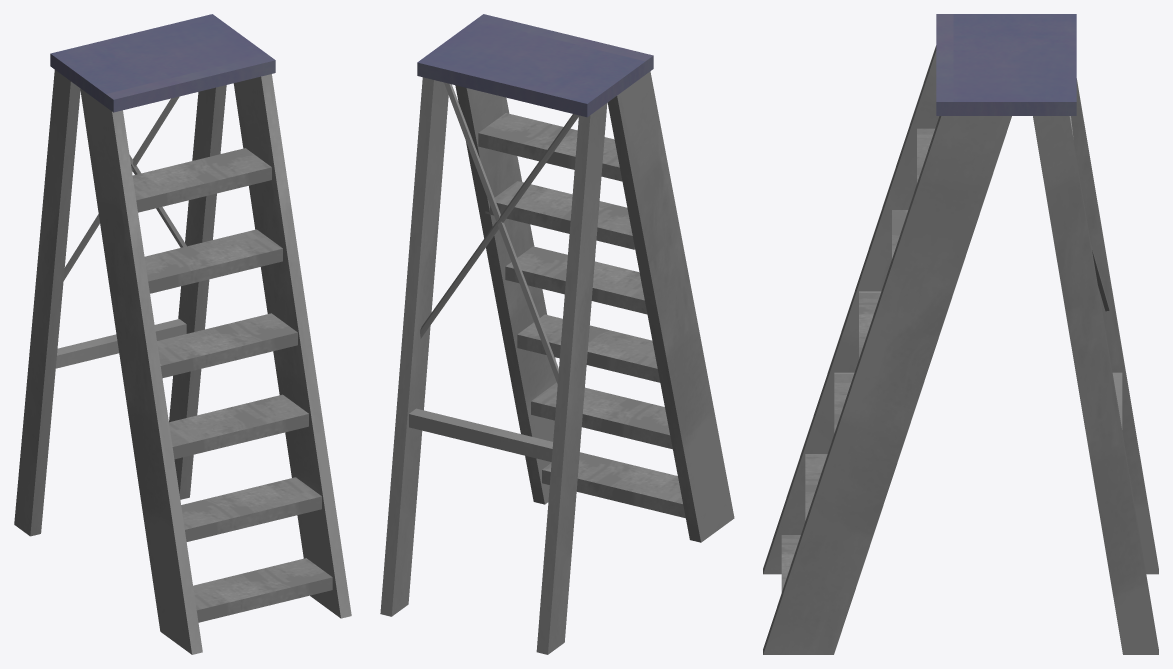
Rendered from FBX_Model_MABacklog_Ladder_StepLadder.fbx.
The picture shows the model from 3 angles, left to right: view 1: azimuth 30°, elevation 25°; view 2: azimuth 150°, elevation 25°; view 3: azimuth 270°, elevation 25°; orthographic projection. The views are drawn at different scales.
Visible parts, largest first — view 1: StepLadder_Pole_L, StepLadder_Pole_R, StepLadder_Step_6_Top, StepLadder_BackPole_L, StepLadder_BackPole_R, Stepladder_Step_1, Stepladder_Step_3, Stepladder_Step_2, Stepladder_Step_0, Stepladder_Step_5, Stepladder_Step_4, Stepladder_Support_1 (+1 smaller); view 2: StepLadder_Pole_L, StepLadder_BackPole_L, StepLadder_BackPole_R, StepLadder_Step_6_Top, StepLadder_Pole_R, Stepladder_Step_0, Stepladder_Step_1, Stepladder_Step_3, Stepladder_Step_5, Stepladder_Step_2, Stepladder_Step_4, Stepladder_Support_1 (+2 smaller); view 3: StepLadder_Pole_R, StepLadder_BackPole_R, StepLadder_Step_6_Top, StepLadder_Pole_L, StepLadder_BackPole_L, Stepladder_Step_1, Stepladder_Step_3, Stepladder_Step_2, Stepladder_Step_0.
Boxes of the visible parts, x1=… form: StepLadder_Pole_L: x1=80, y1=88, x2=202, y2=654; StepLadder_Pole_R: x1=233, y1=74, x2=351, y2=618; StepLadder_Step_6_Top: x1=50, y1=14, x2=275, y2=112; StepLadder_BackPole_L: x1=14, y1=70, x2=80, y2=536; StepLadder_BackPole_R: x1=169, y1=85, x2=226, y2=499; Stepladder_Step_1: x1=181, y1=477, x2=321, y2=541; Stepladder_Step_3: x1=157, y1=313, x2=297, y2=378; Stepladder_Step_2: x1=169, y1=394, x2=308, y2=459; Stepladder_Step_0: x1=193, y1=558, x2=332, y2=622; Stepladder_Step_5: x1=132, y1=148, x2=271, y2=212; Stepladder_Step_4: x1=144, y1=229, x2=282, y2=293; Stepladder_Support_1: x1=55, y1=319, x2=186, y2=368; StepLadder_Pole_L: x1=607, y1=71, x2=734, y2=542; StepLadder_BackPole_L: x1=536, y1=103, x2=607, y2=654; StepLadder_BackPole_R: x1=380, y1=77, x2=448, y2=616; StepLadder_Step_6_Top: x1=417, y1=14, x2=653, y2=117; StepLadder_Pole_R: x1=455, y1=85, x2=556, y2=504; Stepladder_Step_0: x1=542, y1=452, x2=685, y2=518; Stepladder_Step_1: x1=531, y1=382, x2=672, y2=449; Stepladder_Step_3: x1=505, y1=246, x2=647, y2=314; Stepladder_Step_5: x1=478, y1=113, x2=622, y2=181; Stepladder_Step_2: x1=517, y1=314, x2=660, y2=382; Stepladder_Step_4: x1=485, y1=181, x2=635, y2=249; Stepladder_Support_1: x1=409, y1=408, x2=552, y2=461; StepLadder_Pole_R: x1=763, y1=116, x2=1011, y2=654; StepLadder_BackPole_R: x1=1033, y1=116, x2=1158, y2=654; StepLadder_Step_6_Top: x1=936, y1=14, x2=1076, y2=115; StepLadder_Pole_L: x1=763, y1=45, x2=939, y2=574; StepLadder_BackPole_L: x1=1071, y1=78, x2=1158, y2=574; Stepladder_Step_1: x1=805, y1=454, x2=827, y2=520; Stepladder_Step_3: x1=859, y1=291, x2=881, y2=358; Stepladder_Step_2: x1=834, y1=372, x2=854, y2=432; Stepladder_Step_0: x1=781, y1=535, x2=800, y2=592.
Bounding box in the file's own units: 2.94 × 8.63 × 5.59.
Materials: 1 (1 with a texture image).
